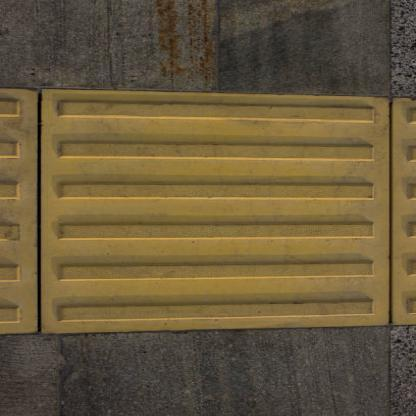podotacti: (0, 56, 416, 363)
